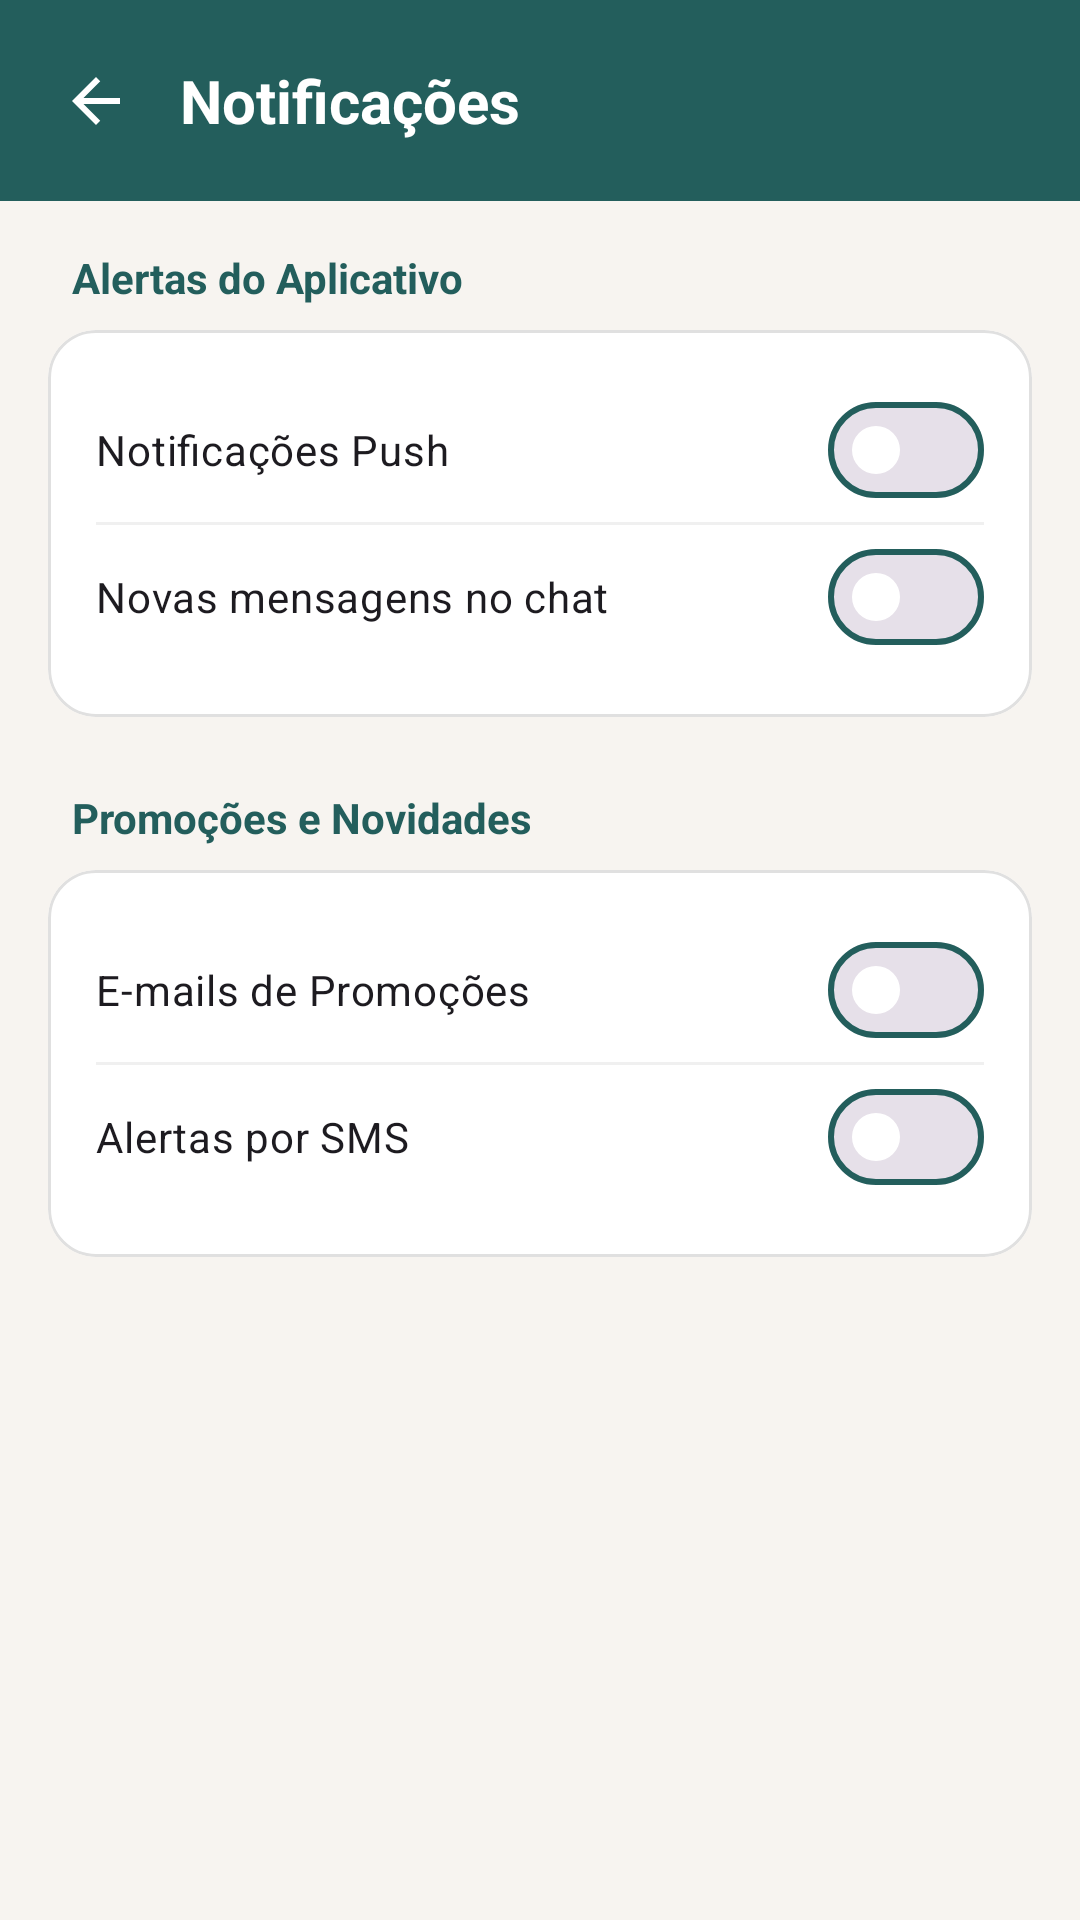

Icons on this 1080px x 1920px Android screen, each with its box as detection(x1, y1, x2, y2):
Voltar: detection(72, 77, 120, 125)
